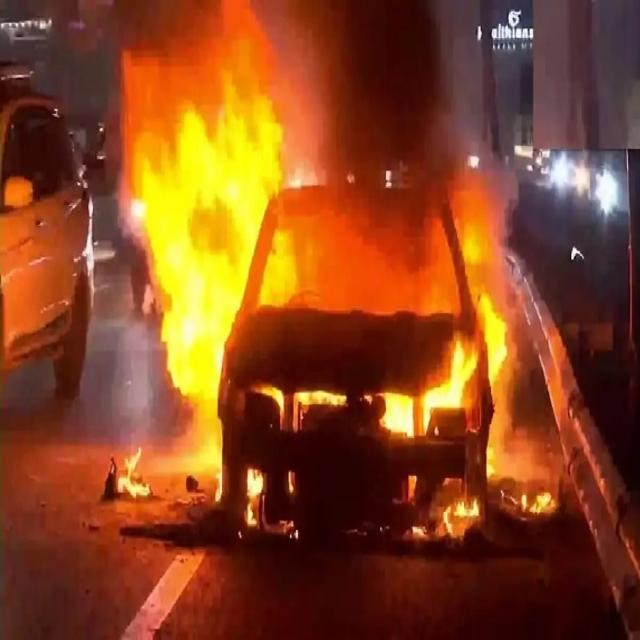fire: (131, 64, 283, 328), (294, 175, 501, 315), (162, 322, 234, 502), (484, 394, 572, 521), (364, 337, 476, 436), (405, 476, 479, 541), (478, 294, 507, 391), (117, 447, 151, 498)
